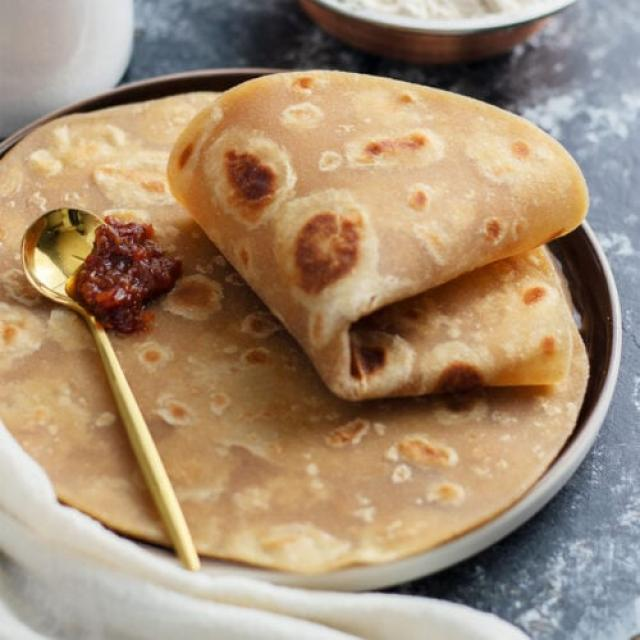chapathi: (0, 80, 598, 588), (161, 59, 597, 417)
